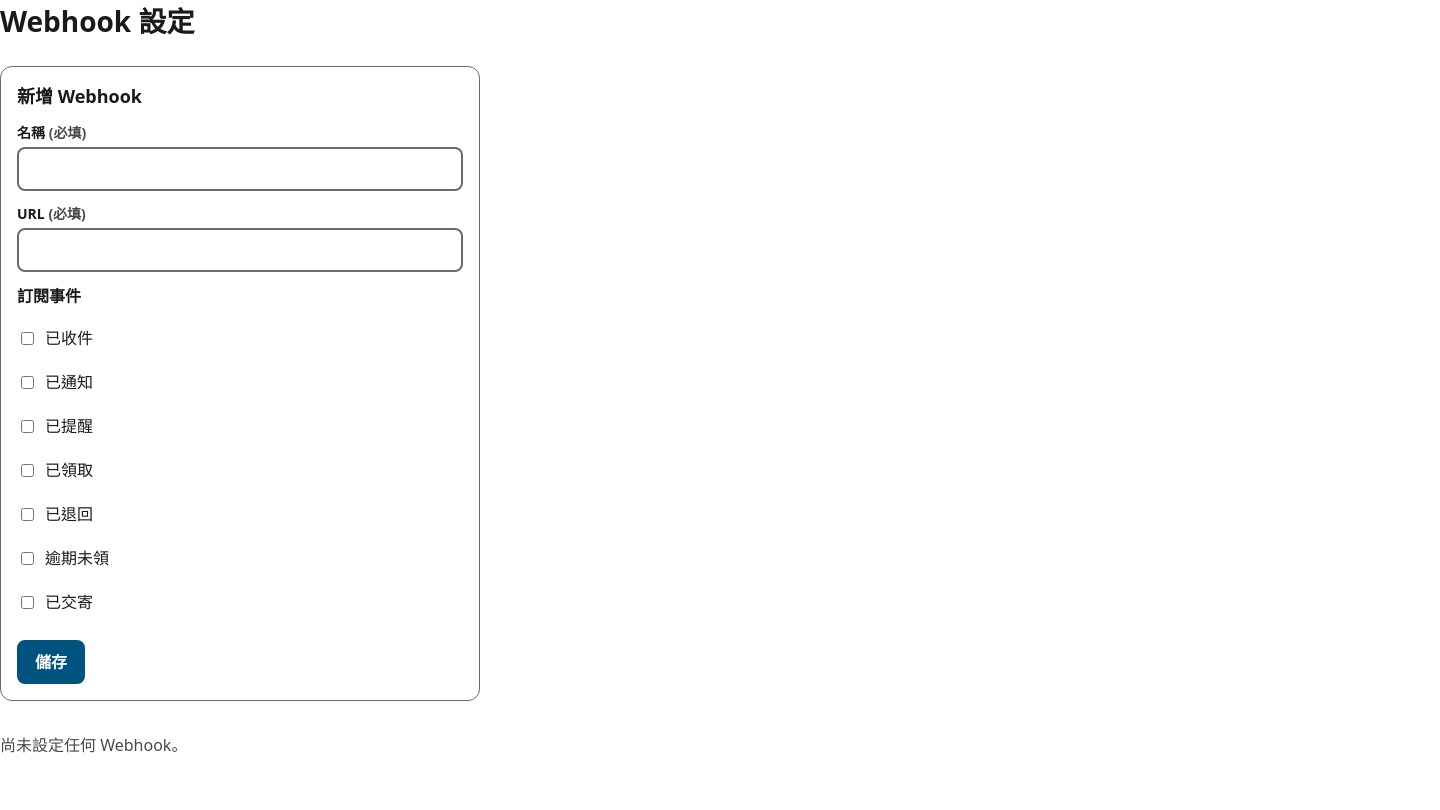
Test: WebhooksAdminPage › creates a webhook and reveals the one-time secret
Type "ERP Sync" into the field labelled "名稱 (必填)" at (240, 169), box 17,147 -> 463,191
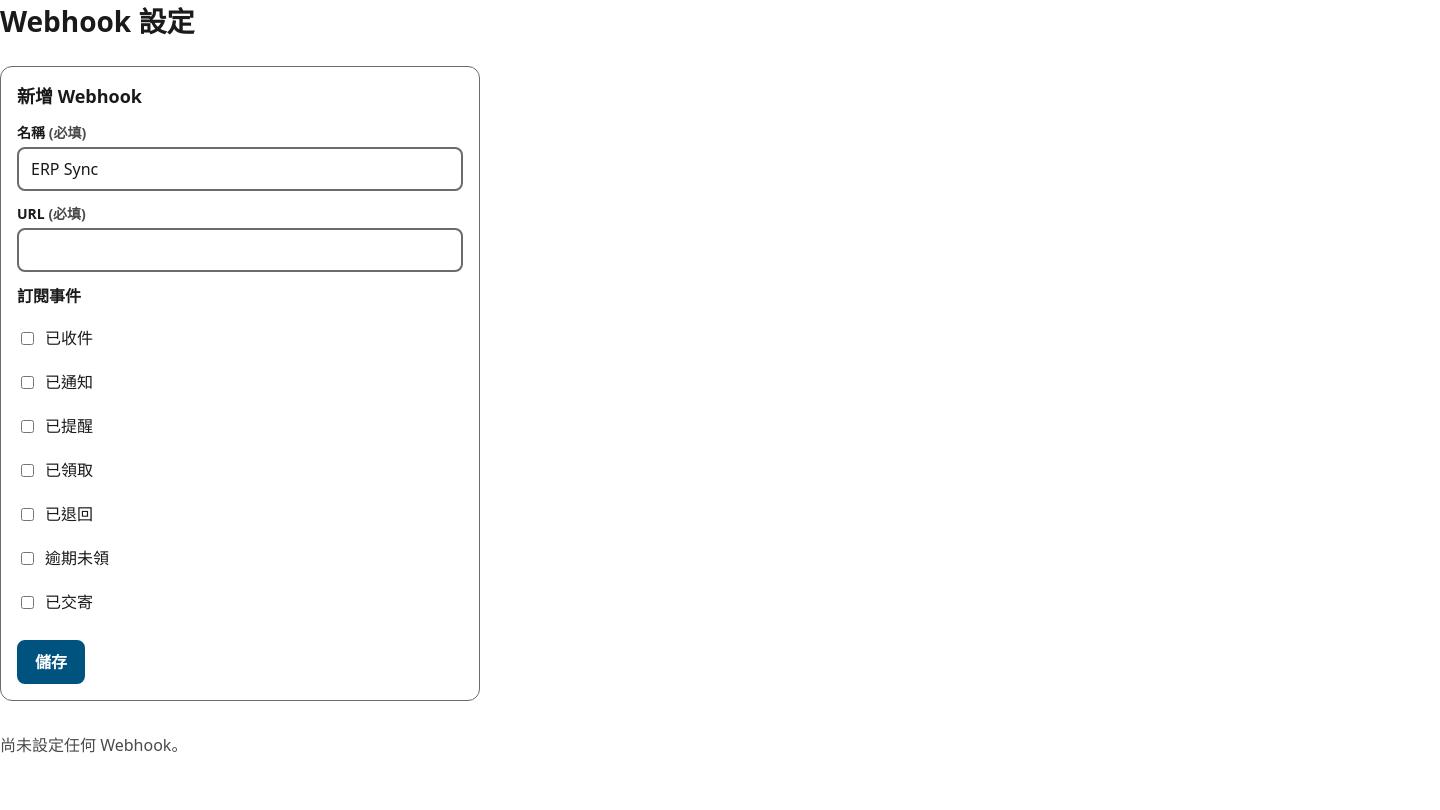
Type "https://erp.example.com/hooks/mailroom" into the field labelled "URL (必填)" at (240, 250), box 17,228 -> 463,272
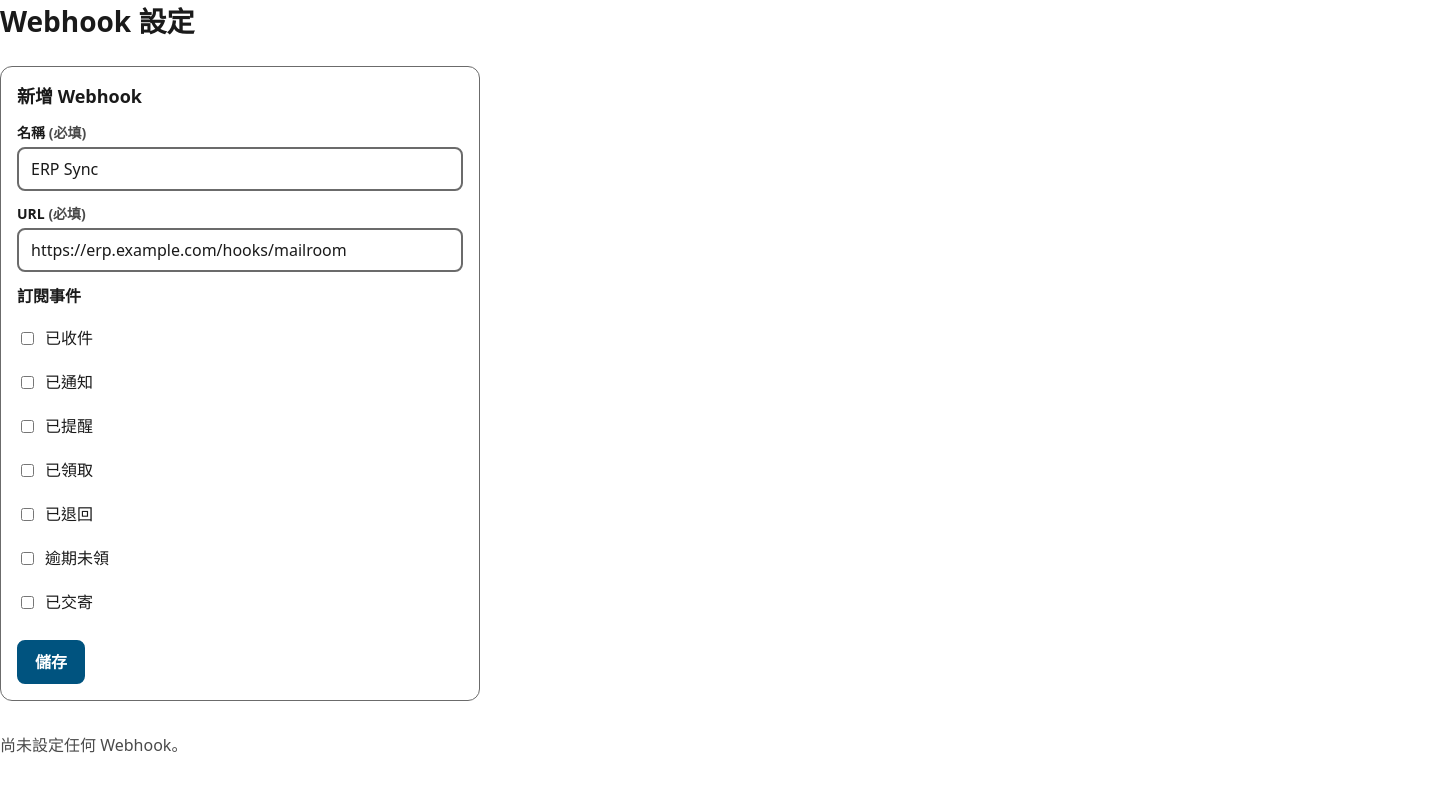
Click the checkbox labelled "已收件" at (28, 338), box 21,332 -> 34,344
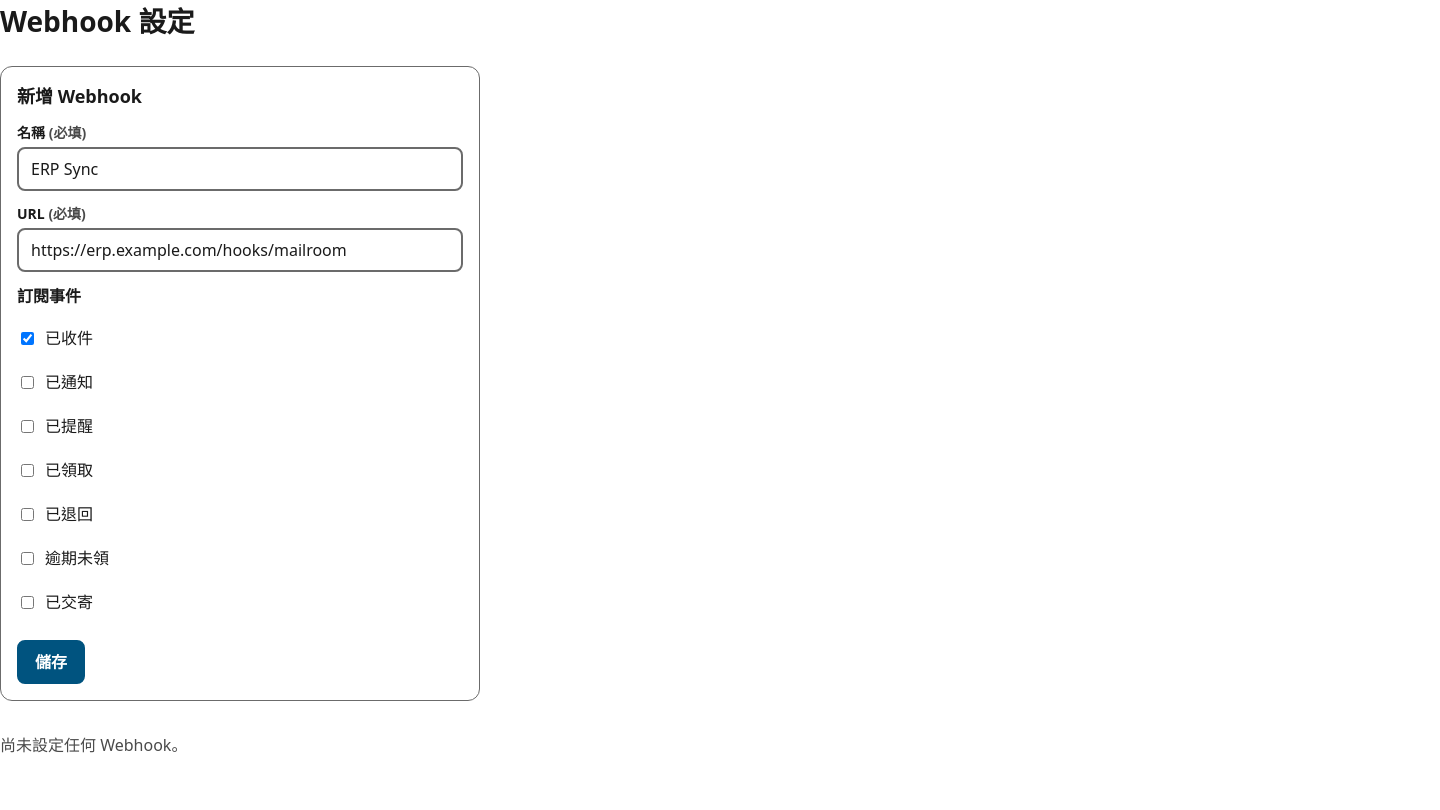
Submit the form, box 0,66 -> 480,701
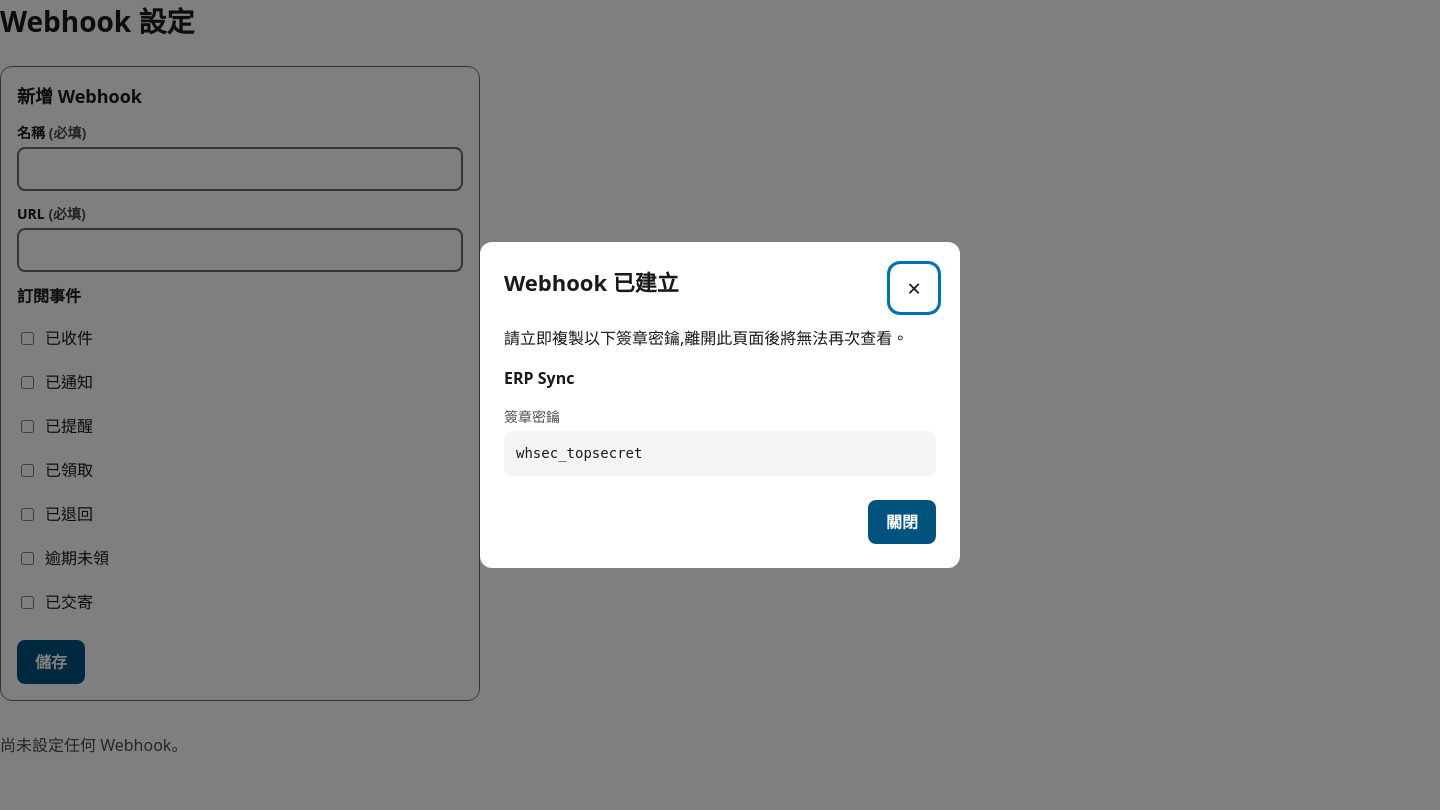
Check: the text "Webhook 已建立" is shown, box 504,266 -> 679,299
Check: the text "whsec_topsecret" is shown, box 504,431 -> 936,476
